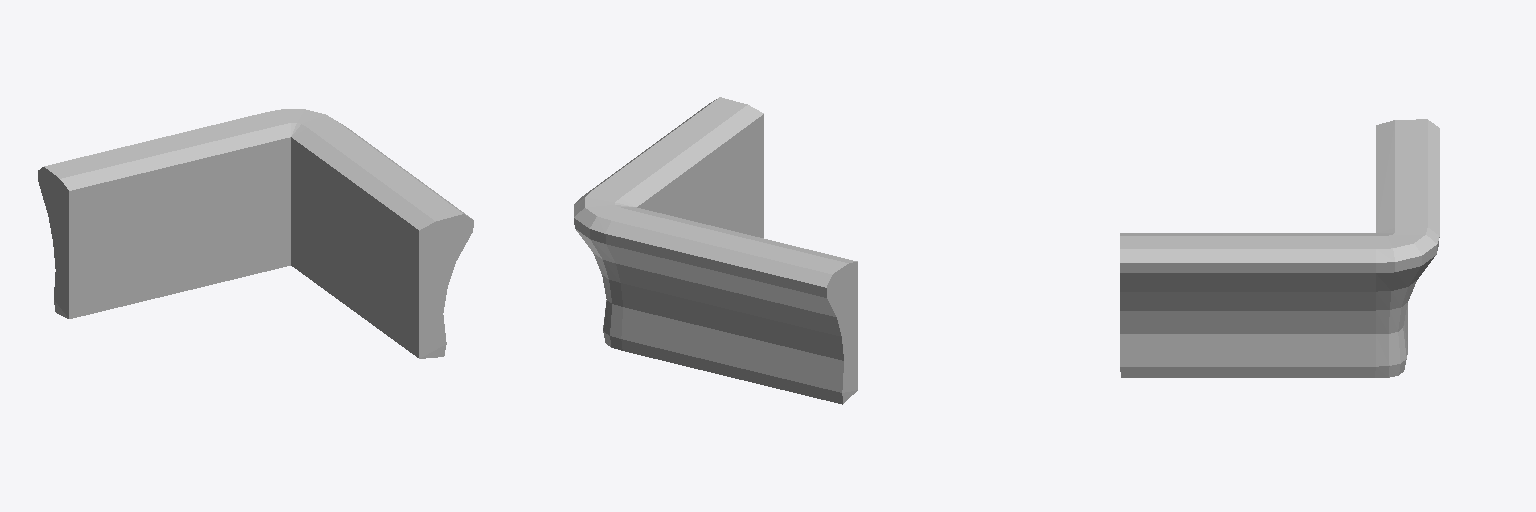
The model's file is OutwardCurvedWall_Upper.obj.
The picture shows the model from 3 angles: view 1: azimuth 30°, elevation 25°; view 2: azimuth 150°, elevation 25°; view 3: azimuth 270°, elevation 25°; orthographic projection.
Parts seen in each view (by area): view 1: OutwardCurvedWall_Upper export_grp; view 2: OutwardCurvedWall_Upper export_grp; view 3: OutwardCurvedWall_Upper export_grp.
Boxes of the visible parts, box(x1,y1,x2,y2) form: OutwardCurvedWall_Upper export_grp: box(38, 109, 473, 358); OutwardCurvedWall_Upper export_grp: box(574, 97, 857, 404); OutwardCurvedWall_Upper export_grp: box(1120, 119, 1439, 377).
Size of the model in its own units: 7.42 by 3.55 by 7.42.